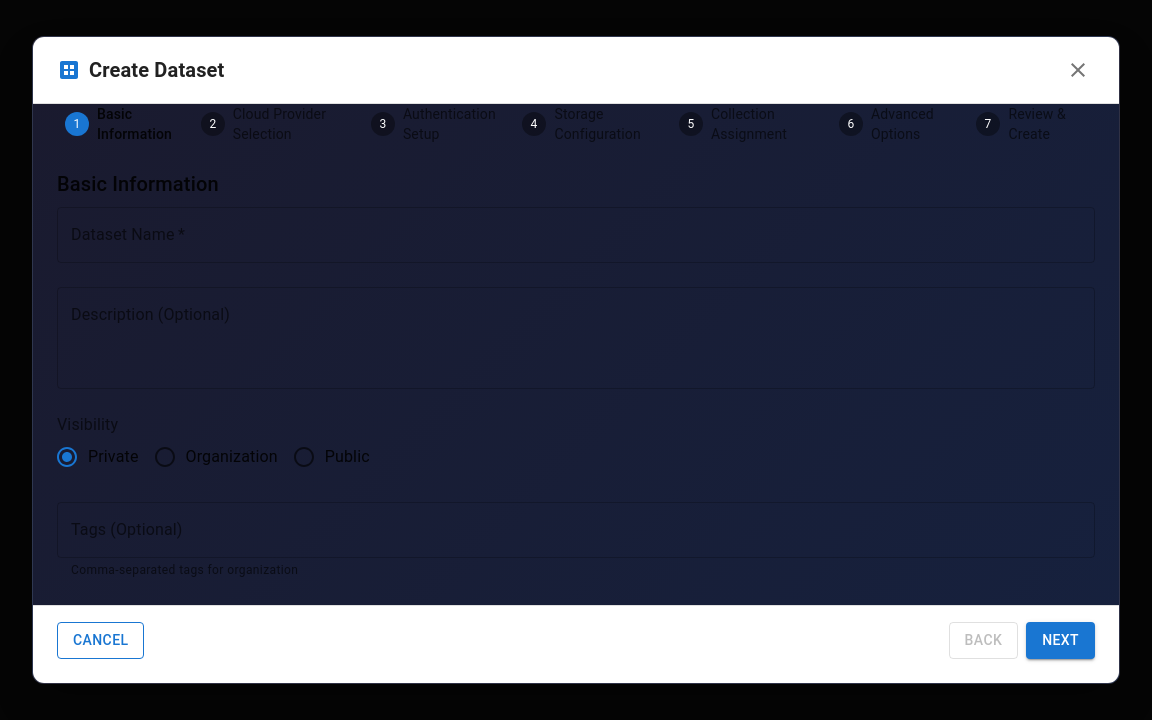
Test: DatasetCreationWizard › Step 1: Basic Information › visibility selection works
The width and height of the screenshot is (1152, 720).
Check: the radio button labelled "Private" is checked, box [55,445,138,469]
Click the radio button labelled "Organization" at (215, 457), box [152,445,278,469]
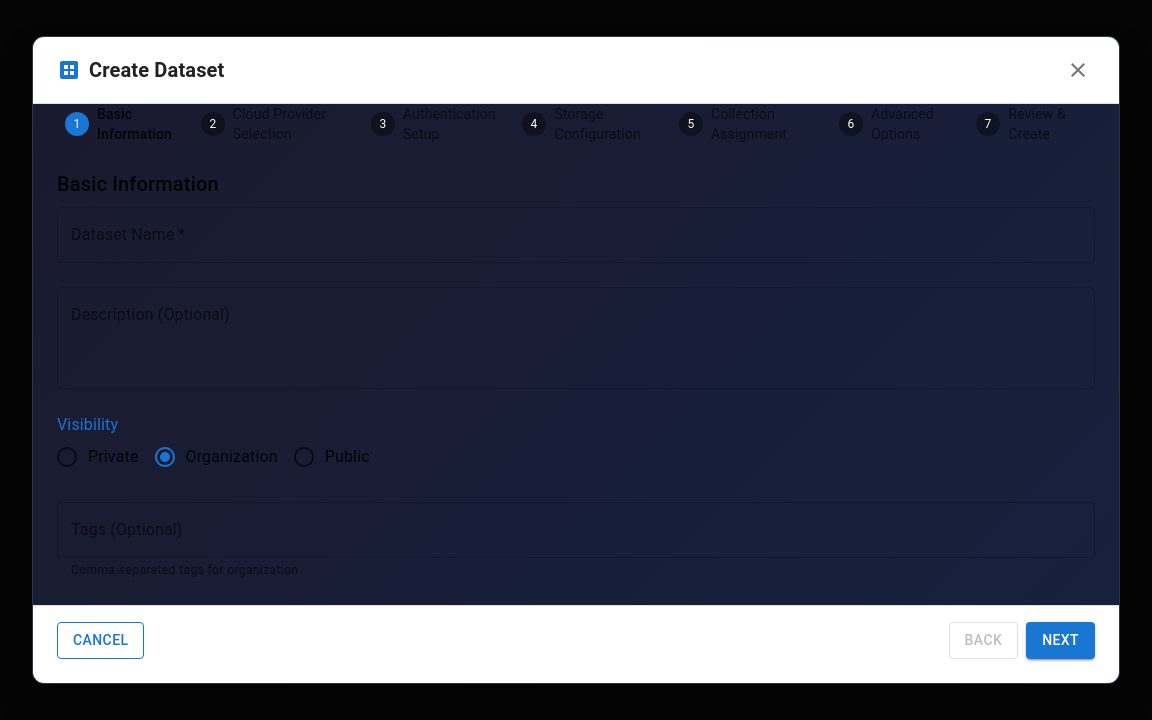
Check: the radio button labelled "Organization" is checked, box [152,445,278,469]
Check: the radio button labelled "Private" is not checked, box [55,445,138,469]
